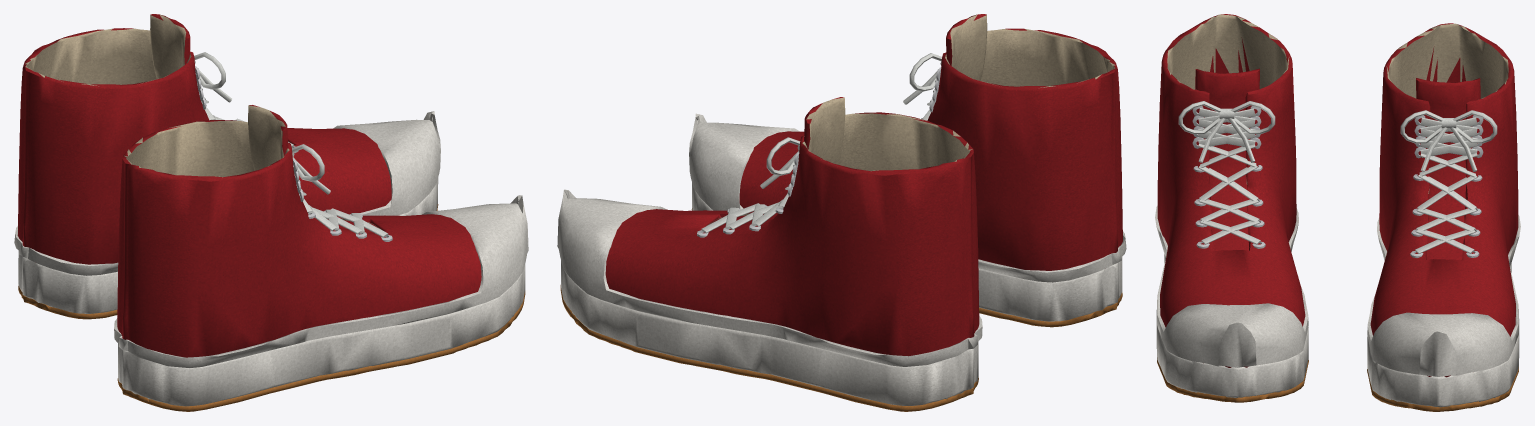
Rendered from high-top.glb.
The picture shows the model from 3 angles, left to right: view 1: azimuth 30°, elevation 25°; view 2: azimuth 150°, elevation 25°; view 3: azimuth 270°, elevation 25°; orthographic projection. The views are drawn at different scales.
Visible parts, largest first — view 1: Upper, right, Upper, left, Foxing, right, Toe cap and foxing, right, Toe cap and foxing, left, Foxing, left, Outsole, right, Tongue, right, Laces and eyelets, right, Tongue, left, Laces and eyelets, left, Outsole, left; view 2: Upper, left, Upper, right, Foxing, left, Toe cap and foxing, left, Toe cap and foxing, right, Foxing, right, Outsole, left, Tongue, left, Laces and eyelets, left, Tongue, right, Outsole, right, Laces and eyelets, right; view 3: Upper, left, Upper, right, Toe cap and foxing, right, Toe cap and foxing, left, Laces and eyelets, right, Laces and eyelets, left, Foxing, right, Foxing, left, Tongue, right, Tongue, left, Outsole, right, Outsole, left.
Part boxes in pixels (bbox=[...]): Upper, right: bbox=[117, 120, 481, 357]; Upper, left: bbox=[17, 28, 391, 264]; Foxing, right: bbox=[118, 264, 525, 406]; Toe cap and foxing, right: bbox=[114, 195, 528, 367]; Toe cap and foxing, left: bbox=[14, 111, 440, 275]; Foxing, left: bbox=[18, 178, 438, 313]; Outsole, right: bbox=[117, 291, 525, 411]; Tongue, right: bbox=[248, 105, 377, 232]; Laces and eyelets, right: bbox=[292, 144, 392, 241]; Tongue, left: bbox=[150, 14, 190, 78]; Laces and eyelets, left: bbox=[194, 52, 298, 153]; Outsole, left: bbox=[18, 204, 438, 319]; Upper, left: bbox=[605, 112, 979, 356]; Upper, right: bbox=[739, 28, 1122, 270]; Foxing, left: bbox=[561, 261, 978, 405]; Toe cap and foxing, left: bbox=[557, 189, 982, 366]; Toe cap and foxing, right: bbox=[689, 113, 1126, 282]; Foxing, right: bbox=[692, 183, 1122, 321]; Outsole, left: bbox=[560, 285, 978, 411]; Tongue, left: bbox=[711, 97, 845, 228]; Laces and eyelets, left: bbox=[697, 137, 800, 237]; Tongue, right: bbox=[946, 14, 987, 80]; Outsole, right: bbox=[691, 208, 1122, 327]; Laces and eyelets, right: bbox=[903, 53, 941, 120]; Upper, left: bbox=[1370, 23, 1518, 377]; Upper, right: bbox=[1157, 14, 1305, 367]; Toe cap and foxing, right: bbox=[1155, 205, 1308, 367]; Toe cap and foxing, left: bbox=[1367, 215, 1520, 376]; Laces and eyelets, right: bbox=[1178, 101, 1275, 248]; Laces and eyelets, left: bbox=[1400, 110, 1497, 257]; Foxing, right: bbox=[1156, 254, 1308, 397]; Foxing, left: bbox=[1367, 263, 1519, 407]; Tongue, right: bbox=[1195, 68, 1259, 250]; Tongue, left: bbox=[1416, 78, 1480, 260]; Outsole, right: bbox=[1157, 357, 1308, 402]; Outsole, left: bbox=[1367, 367, 1518, 411].
Bounding box in the file's own units: 0.3159 × 0.1734 × 0.2505.
Materials: 6 (6 with a texture image).
